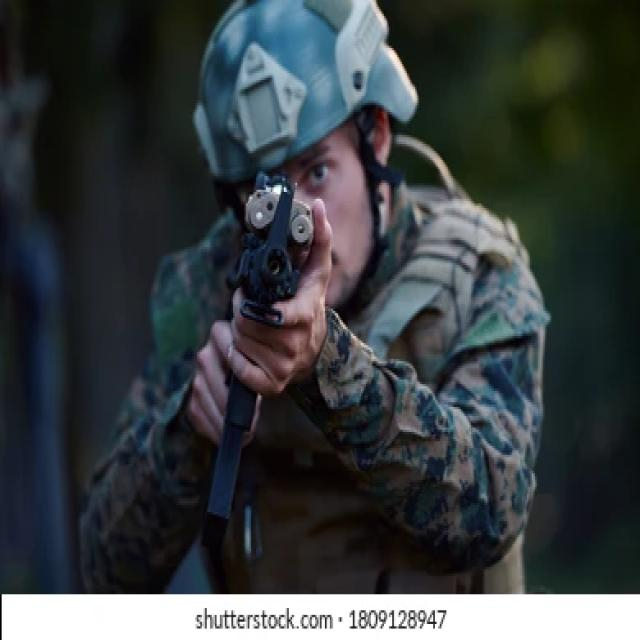soldier: (86, 3, 546, 597)
